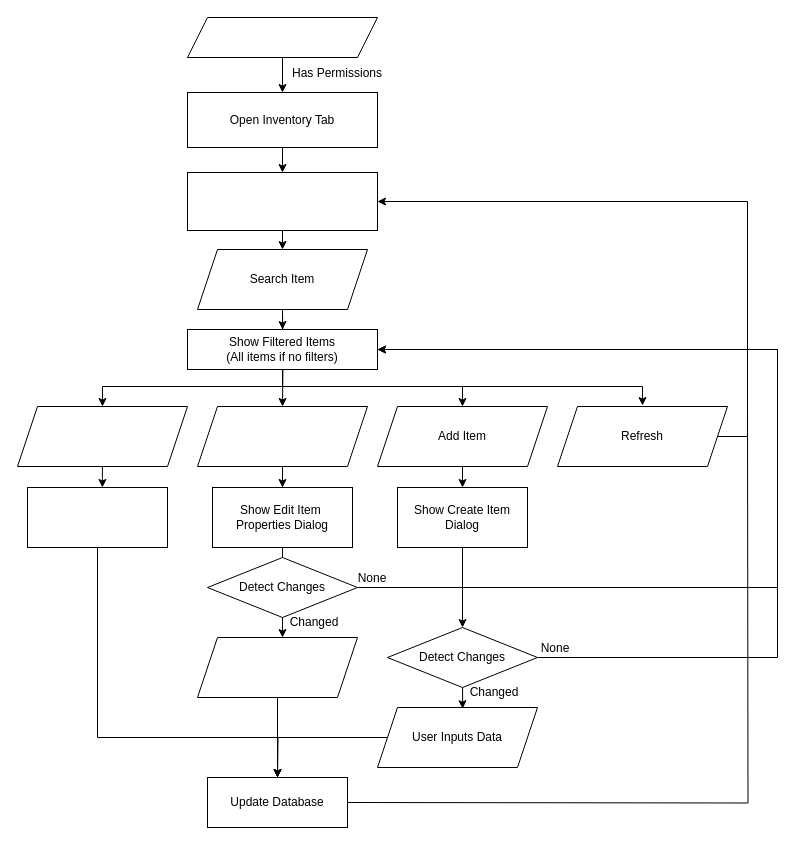
Image size: 803x845. Some labels were removed from this diagram. Each missing label, with the box of its shape:
Checks User Permissions: (186, 16, 378, 58)
Delete Item: (16, 406, 188, 466)
Edit Item: (196, 406, 368, 466)
Load Items From Database: (186, 172, 378, 230)
Show Confirmation Dialog: (26, 486, 168, 548)
User Modifies Data: (196, 636, 358, 698)
